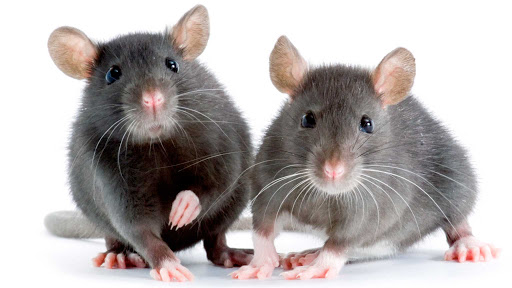rat: (36, 2, 244, 271), (243, 30, 427, 279)
